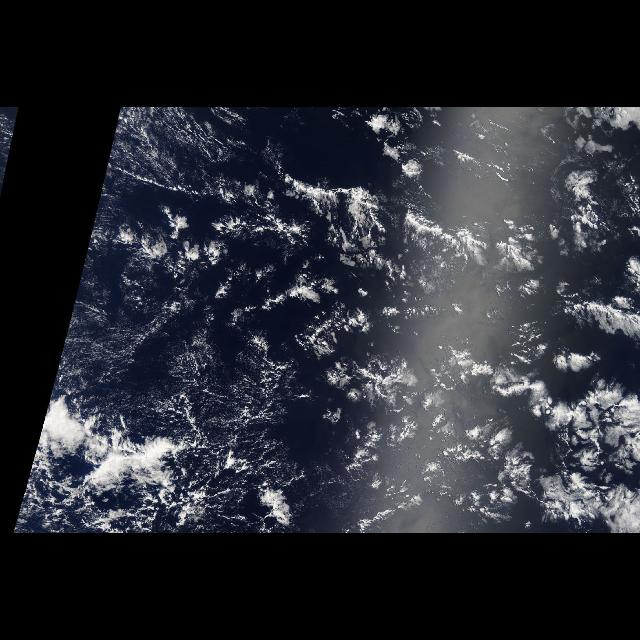Fish: (12, 141, 640, 533)
Sugar: (60, 274, 236, 416)
